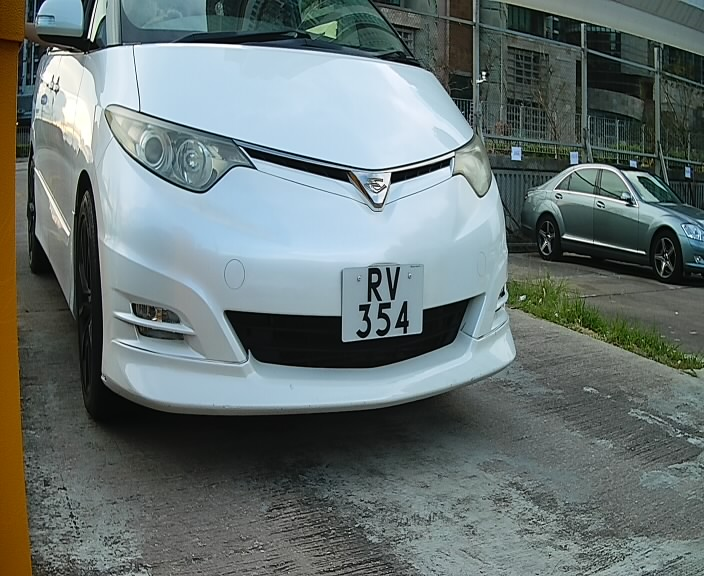Car: (24, 2, 533, 440)
License Plate: (333, 253, 432, 349)
